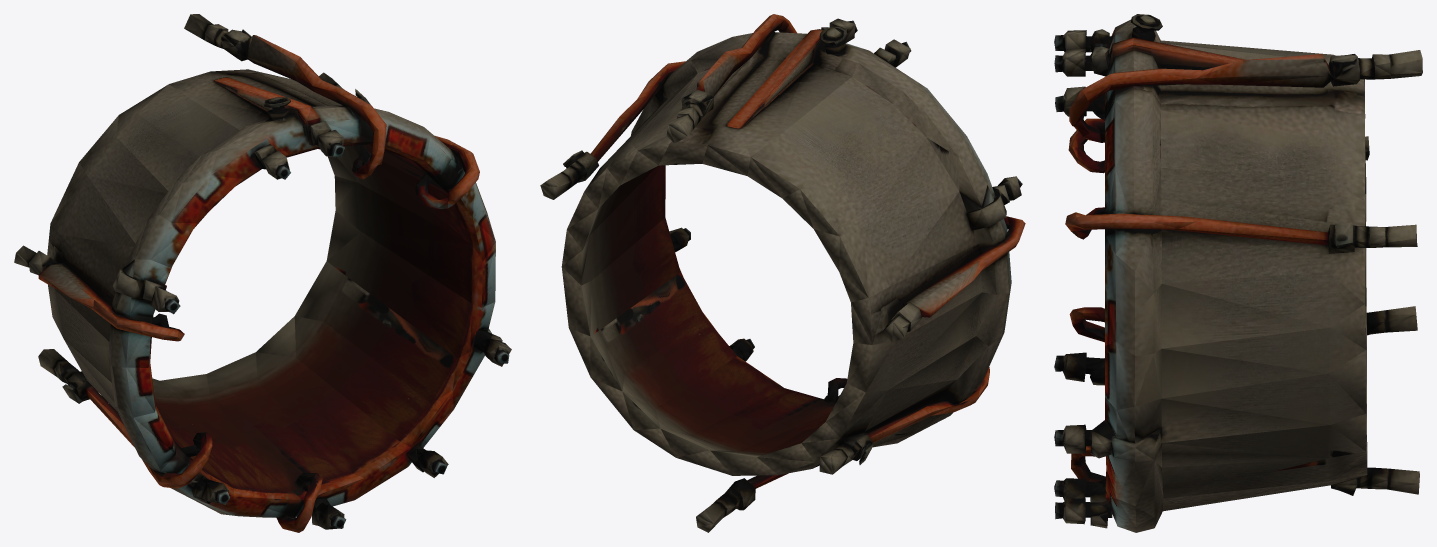
File: tail_cargo.glb
3 renders of one model, left to right at view 1: azimuth 30°, elevation 25°; view 2: azimuth 150°, elevation 25°; view 3: azimuth 270°, elevation 25°, orthographic. The views are drawn at different scales.
Visible parts, largest first — view 1: tripo_node_29b5adee-df44-4591-9ef3-f7597b7c709e; view 2: tripo_node_29b5adee-df44-4591-9ef3-f7597b7c709e; view 3: tripo_node_29b5adee-df44-4591-9ef3-f7597b7c709e.
Boxes of the visible parts, x1,y1,x2,y2 form: tripo_node_29b5adee-df44-4591-9ef3-f7597b7c709e: [14, 14, 511, 532]; tripo_node_29b5adee-df44-4591-9ef3-f7597b7c709e: [540, 14, 1025, 532]; tripo_node_29b5adee-df44-4591-9ef3-f7597b7c709e: [1054, 14, 1422, 532].
Size of the model in its own units: 0.9572 by 1 by 0.6981.
Materials: 1 (1 with a texture image).
